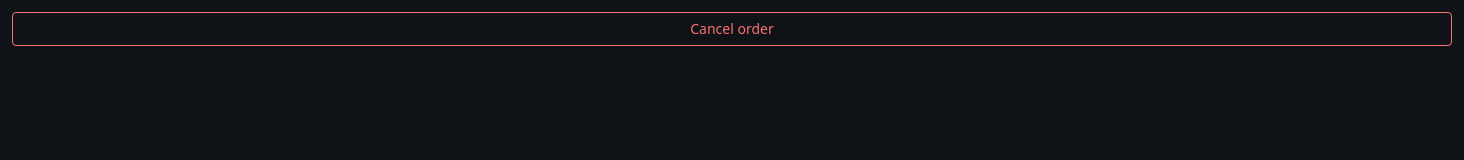
Test: CancelOrderAction › explains the recall for an order that is out for delivery
The image size is (1464, 160).
Click the button "Cancel order" at (732, 29), box [12,12,1452,46]
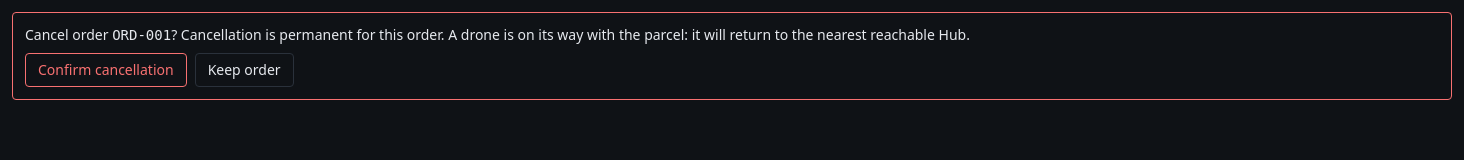
Expected: the element named "Confirm cancellation" shows "return to the nearest reachable Hub", [445,25,970,44]
